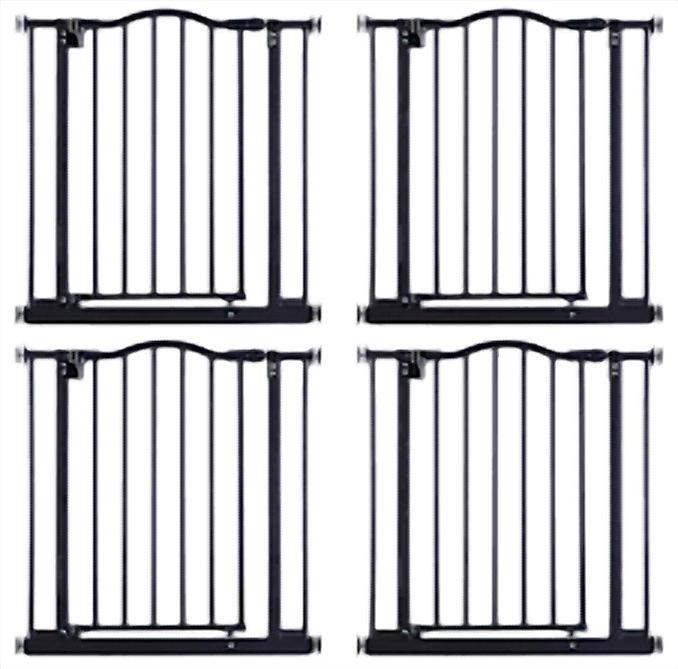Gate: (11, 6, 324, 327), (354, 9, 667, 330), (354, 338, 667, 659), (13, 339, 326, 660)
